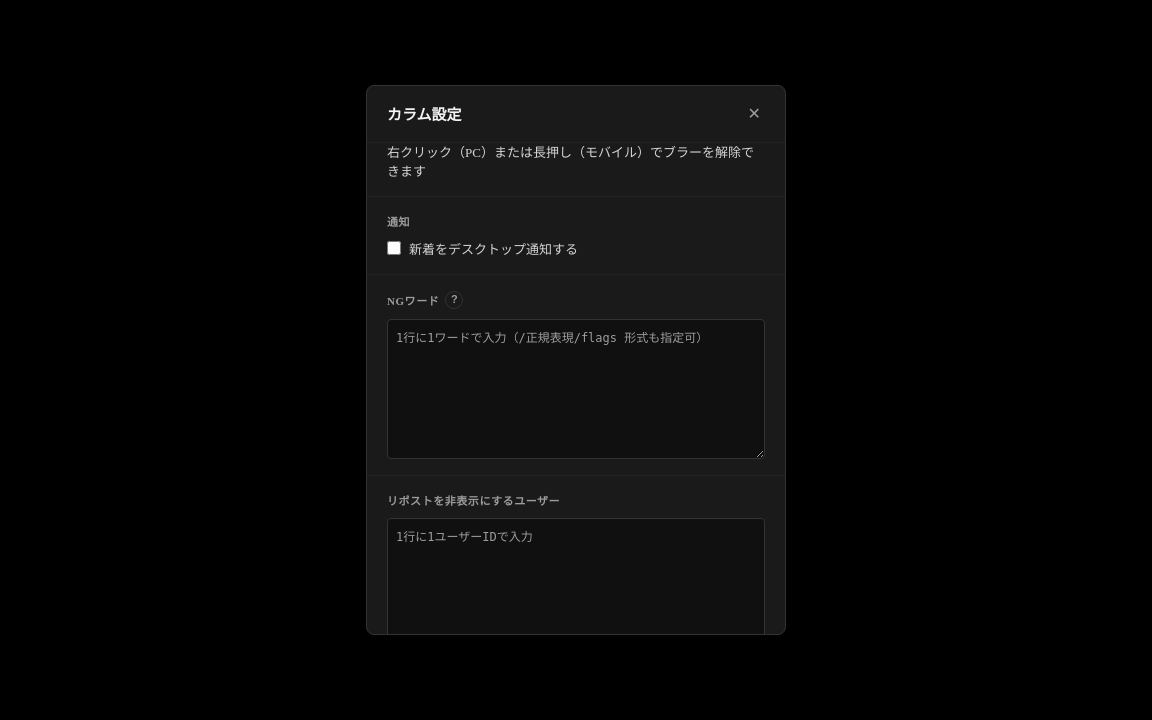
Test: SettingsPanel NGワード › 不正な正規表現を入力して適用すると、エラーメッセージが表示されonApplyが呼ばれない
The width and height of the screenshot is (1152, 720).
(page scrolled)
Step 1. Type "/[ [/" into the text box with placeholder "1行に1ワードで入力（/正規表現/flags 形式も指定可）" → {"x": 576, "y": 389}, box [387,319,765,459]
(page scrolled)
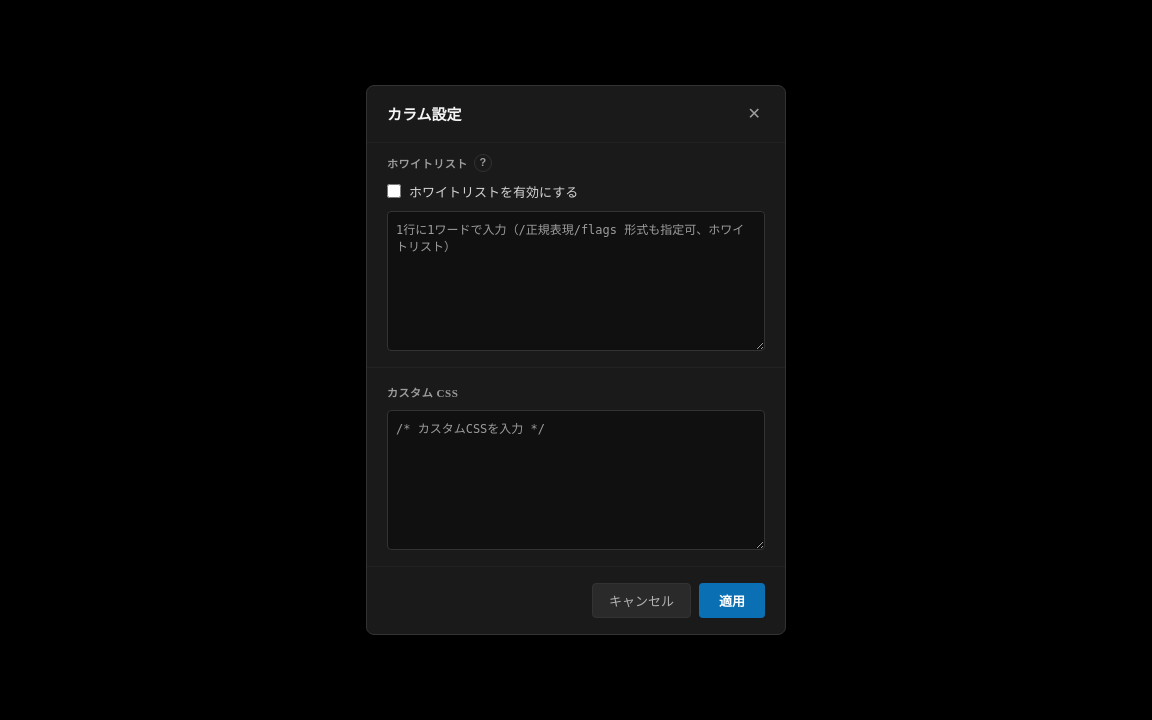
Step 2. Click the button "適用" → {"x": 732, "y": 600}, box [699,583,765,618]
(page scrolled)
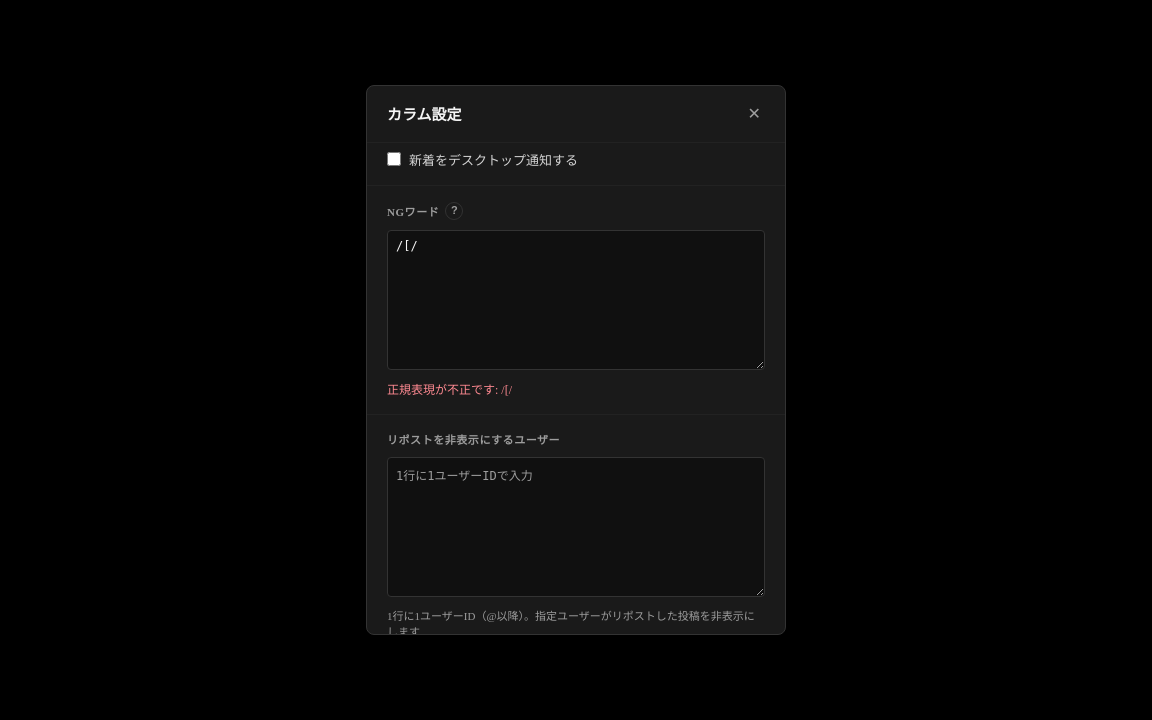
Expected: the text "正規表現が不正です: /[/" is shown, [387,383,512,397]
